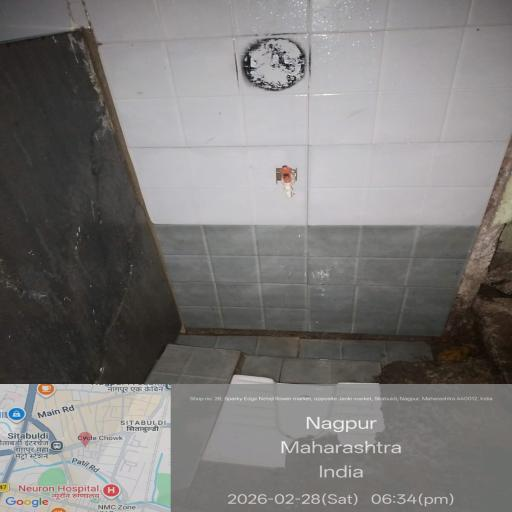clean_floor: (111, 57, 503, 236)
clean_indian: (213, 335, 395, 469)
partial_dirty_floor: (102, 299, 512, 512)
